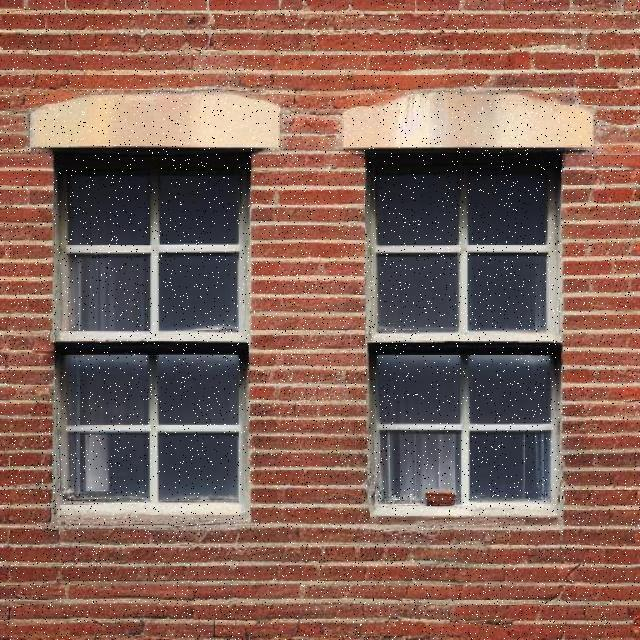window: (51, 145, 248, 522), (364, 148, 560, 512)
